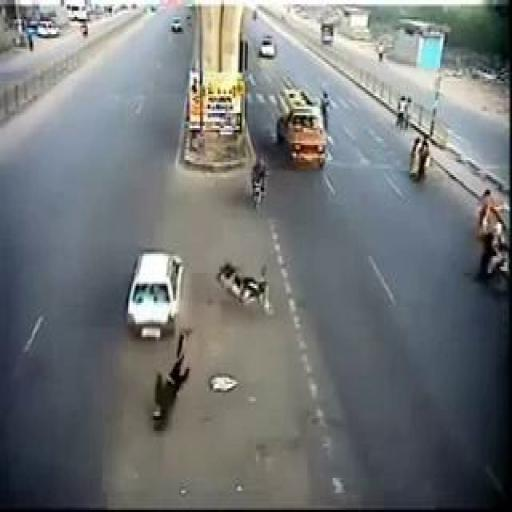Car: (123, 218, 195, 358)
Major Accident: (104, 200, 294, 425)
Motor: (212, 246, 280, 344)
